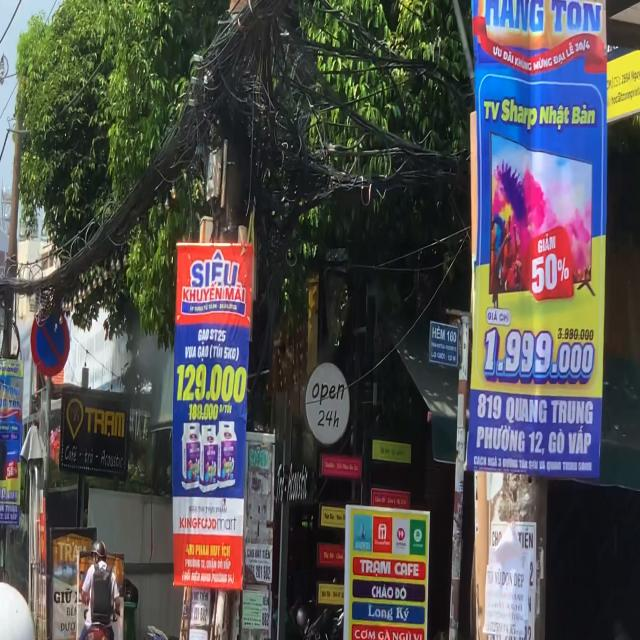Cam do: (30, 304, 71, 377)
